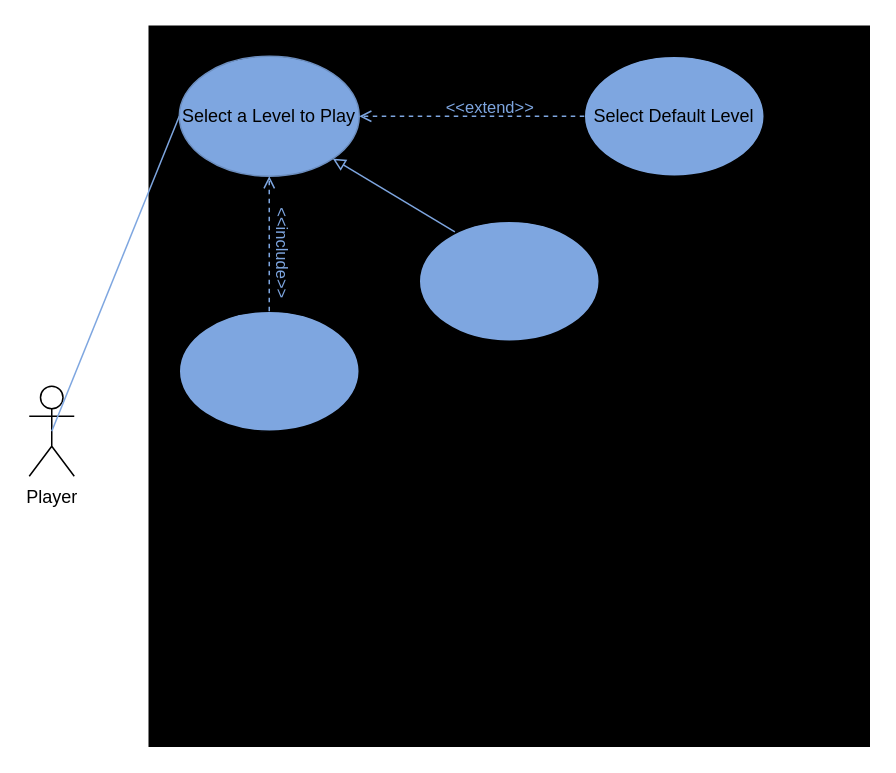
The diagram is 896 pixels wide and 773 high, and some of its shapes have lost their labels. Each missing label, with the box of its shape:
Select a Difficulty: (418, 220, 599, 341)
Select a Map: (178, 310, 359, 431)
